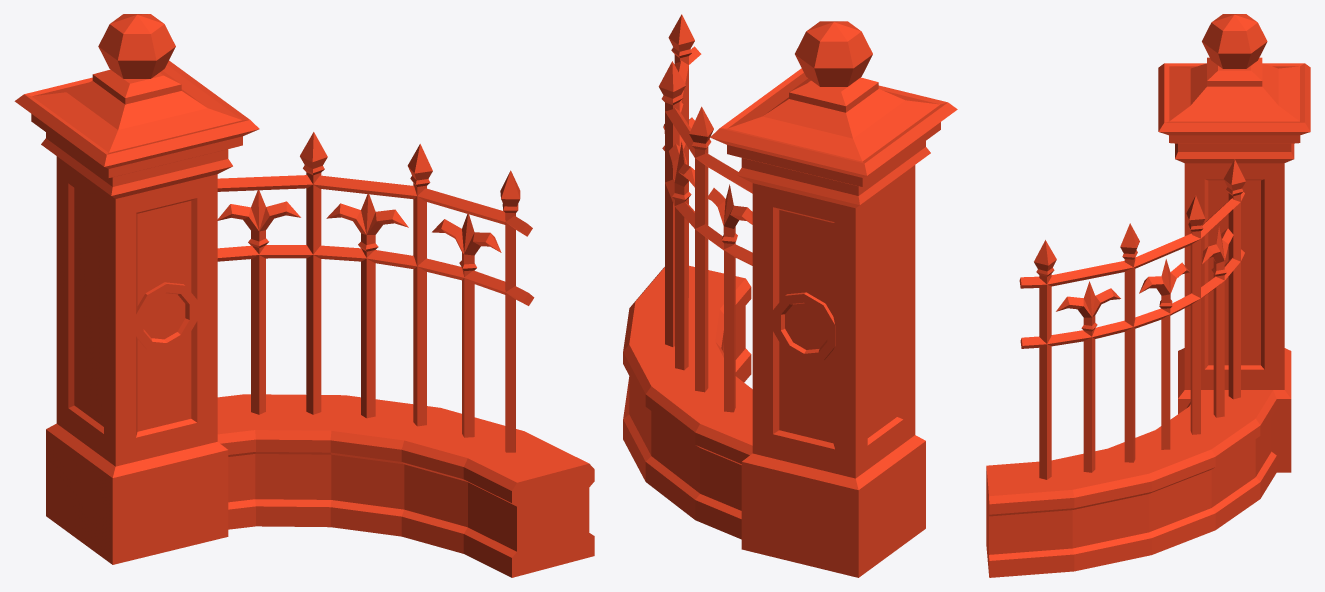
The model's file is SM_Fence_Ornamental_Corner_1m_City.fbx.
The picture shows the model from 3 angles, left to right: view 1: azimuth 30°, elevation 25°; view 2: azimuth 150°, elevation 25°; view 3: azimuth 270°, elevation 25°; orthographic projection. The views are drawn at different scales.
Parts seen in each view (by area): view 1: SM_Fence_Ornamental_Corner_1m_City; view 2: SM_Fence_Ornamental_Corner_1m_City; view 3: SM_Fence_Ornamental_Corner_1m_City.
Part boxes in pixels (x1,y1,x2,y2): SM_Fence_Ornamental_Corner_1m_City: (14, 14, 594, 577); SM_Fence_Ornamental_Corner_1m_City: (623, 14, 957, 577); SM_Fence_Ornamental_Corner_1m_City: (986, 14, 1310, 577).
Size of the model in its own units: 1.49 by 1.86 by 1.26.
